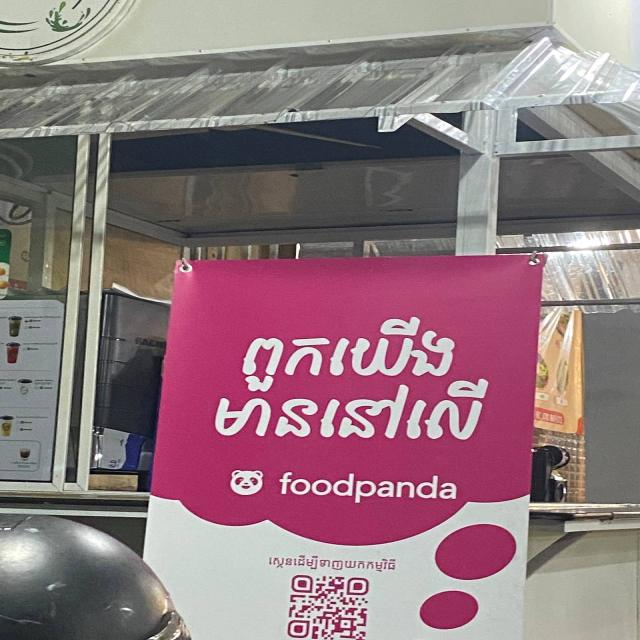Yolov11_80vkh: (201, 372, 503, 448), (239, 305, 471, 394)
